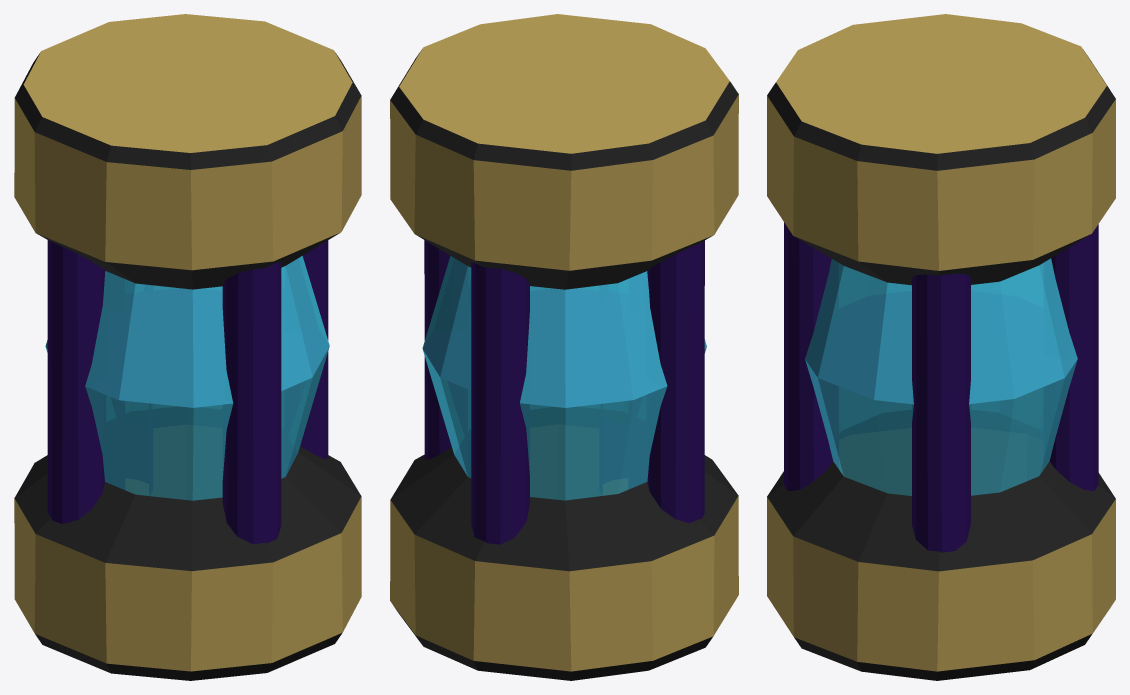
Rendered from item.fbx.
3 views of the same model, side by side, from view 1: azimuth 30°, elevation 25°; view 2: azimuth 150°, elevation 25°; view 3: azimuth 270°, elevation 25° (orthographic).
Visible parts, largest first — view 1: Cylinder.001; view 2: Cylinder.001; view 3: Cylinder.001.
Boxes of the visible parts, x1,y1,x2,y2 form: Cylinder.001: [14, 14, 361, 680]; Cylinder.001: [390, 14, 738, 680]; Cylinder.001: [767, 14, 1115, 680].
Bounding box in the file's own units: 300 × 500 × 300.
